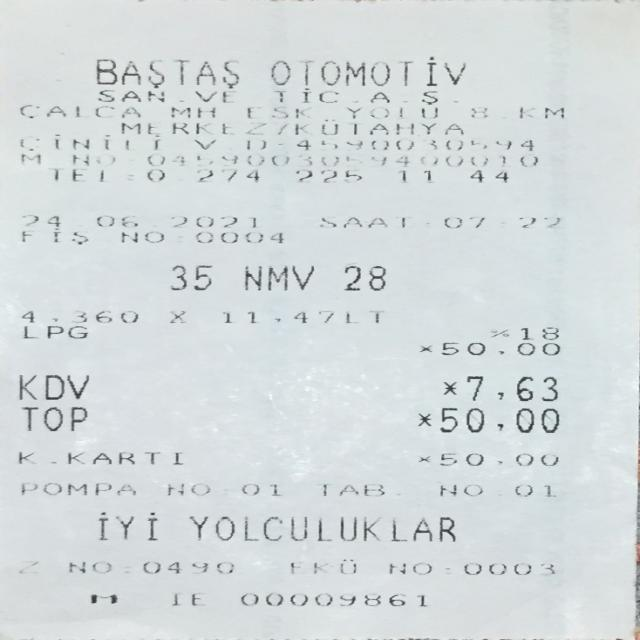text: (190, 509, 456, 542), (269, 57, 465, 88), (144, 152, 540, 166), (120, 119, 462, 135), (294, 134, 537, 155), (90, 56, 240, 85), (440, 405, 557, 433), (239, 590, 425, 606), (18, 133, 160, 153), (466, 372, 556, 402), (18, 449, 180, 465), (438, 479, 554, 500), (20, 478, 134, 498), (167, 478, 278, 498), (437, 450, 560, 468), (242, 259, 312, 290), (445, 212, 564, 230), (460, 557, 559, 578), (439, 340, 558, 357), (17, 372, 86, 401), (20, 308, 136, 325), (18, 103, 138, 119), (21, 403, 85, 432), (317, 212, 414, 230), (92, 512, 157, 538), (346, 103, 440, 119), (170, 212, 253, 230), (188, 134, 271, 152), (295, 309, 386, 325), (194, 228, 282, 244), (139, 560, 232, 575), (267, 87, 343, 105), (318, 478, 385, 498), (342, 259, 384, 290), (168, 260, 210, 290), (39, 166, 117, 182), (362, 87, 441, 102), (287, 558, 360, 574), (98, 86, 162, 103), (242, 104, 313, 119), (294, 168, 356, 184), (19, 323, 85, 338), (383, 556, 429, 576), (190, 167, 249, 182), (217, 308, 267, 325), (69, 556, 108, 576), (96, 212, 138, 229), (194, 88, 238, 104), (118, 228, 160, 244), (21, 212, 59, 229), (167, 105, 216, 118), (71, 152, 116, 166), (516, 106, 568, 118), (393, 167, 432, 182), (471, 168, 509, 182), (520, 325, 556, 339), (171, 592, 204, 606), (89, 593, 119, 605), (13, 152, 42, 164), (143, 166, 166, 181), (416, 405, 428, 433), (436, 381, 458, 396), (18, 556, 36, 574), (168, 308, 184, 325), (470, 104, 488, 118), (490, 325, 507, 339), (443, 558, 453, 578), (418, 341, 430, 356), (127, 166, 137, 182), (415, 454, 432, 463), (123, 556, 129, 576)
